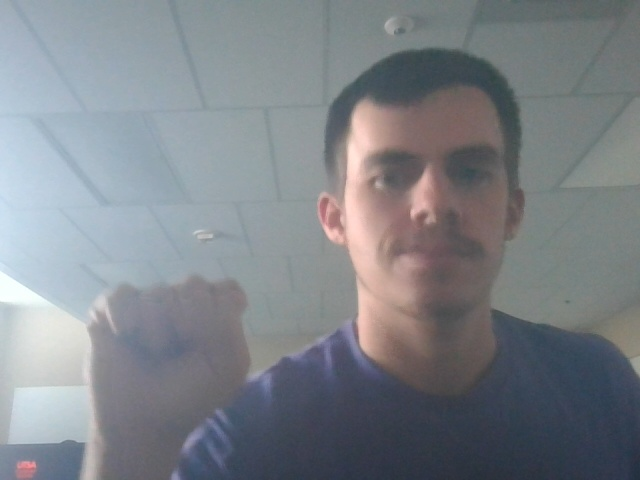yes: (64, 259, 276, 442)
